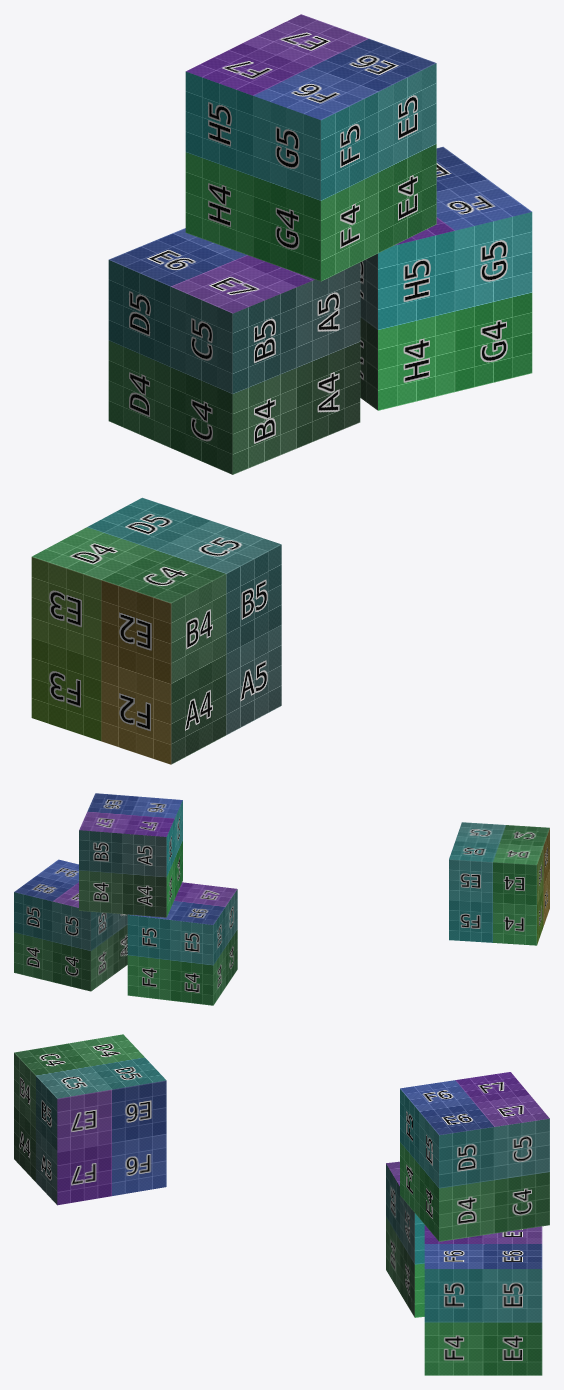
File: demo-scene.gltf
3 views of the same model, one above another, from view 1: azimuth 30°, elevation 25°; view 2: azimuth 150°, elevation 25°; view 3: azimuth 270°, elevation 25° (orthographic). The views are drawn at different scales.
Visible parts, largest first — view 1: Cube.002, Cube.003, Cube.001, Cube; view 2: Cube.002, Cube.003, Cube.001, Cube; view 3: Cube.003, Cube.002, Cube, Cube.001.
Boxes of the visible parts, <box> form: Cube.002: <box>185,14,436,281</box>; Cube.003: <box>31,497,281,764</box>; Cube.001: <box>108,228,360,474</box>; Cube: <box>360,146,532,410</box>; Cube.002: <box>79,793,182,917</box>; Cube.003: <box>449,822,549,945</box>; Cube.001: <box>127,882,237,1005</box>; Cube: <box>14,859,127,991</box>; Cube.003: <box>14,1034,166,1205</box>; Cube.002: <box>400,1072,549,1241</box>; Cube: <box>424,1225,542,1375</box>; Cube.001: <box>386,1161,424,1317</box>.
Size of what is drawn, in the model's own units: 3.81 by 1.61 by 3.67.
Materials: 1 (1 with a texture image).
